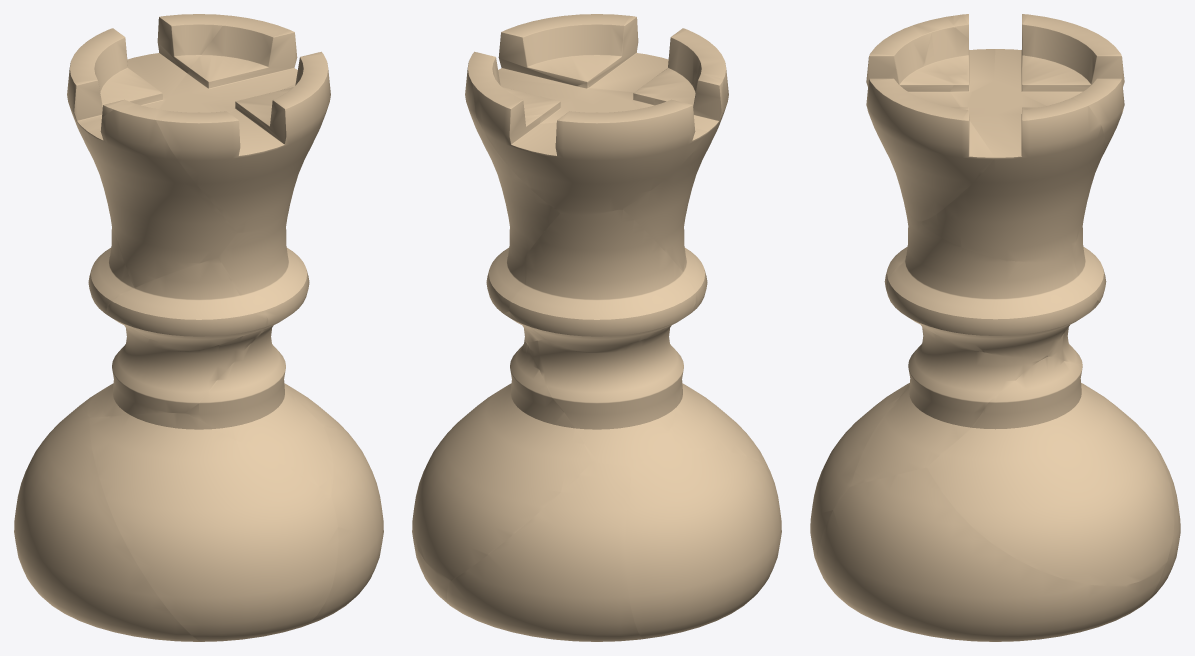
File: rook.glb
3 views of the same model, side by side, from view 1: azimuth 30°, elevation 25°; view 2: azimuth 150°, elevation 25°; view 3: azimuth 270°, elevation 25° (orthographic).
Parts seen in each view (by area): view 1: chunk-03.007, chunk-01.007, chunk-12.005, chunk-10.007, chunk-05.007, chunk-13.005, chunk-07.007, chunk-11.007, chunk-06.007, chunk-02.007, chunk-08.007, chunk-09.007 (+1 smaller); view 2: chunk-01.007, chunk-04.007, chunk-00.007, chunk-09.007, chunk-13.005, chunk-06.007, chunk-12.005, chunk-11.007, chunk-10.007, chunk-03.007, chunk-08.007, chunk-07.007 (+1 smaller); view 3: chunk-04.007, chunk-02.007, chunk-11.007, chunk-08.007, chunk-12.005, chunk-05.007, chunk-13.005, chunk-03.007, chunk-10.007, chunk-09.007, chunk-00.007, chunk-06.007.
Part boxes in pixels (bbox=[...]): chunk-03.007: bbox=[89, 412, 338, 641]; chunk-01.007: bbox=[14, 408, 200, 641]; chunk-12.005: bbox=[155, 51, 330, 232]; chunk-10.007: bbox=[85, 104, 237, 287]; chunk-05.007: bbox=[186, 325, 333, 494]; chunk-13.005: bbox=[67, 14, 229, 143]; chunk-07.007: bbox=[106, 257, 268, 350]; chunk-11.007: bbox=[159, 15, 297, 219]; chunk-06.007: bbox=[83, 325, 265, 417]; chunk-02.007: bbox=[307, 426, 383, 624]; chunk-08.007: bbox=[218, 213, 309, 329]; chunk-09.007: bbox=[88, 215, 134, 313]; chunk-01.007: bbox=[625, 448, 781, 638]; chunk-04.007: bbox=[413, 340, 592, 581]; chunk-00.007: bbox=[447, 462, 642, 641]; chunk-09.007: bbox=[509, 209, 695, 351]; chunk-13.005: bbox=[472, 73, 723, 214]; chunk-06.007: bbox=[527, 325, 683, 466]; chunk-12.005: bbox=[498, 14, 723, 92]; chunk-11.007: bbox=[465, 51, 663, 258]; chunk-10.007: bbox=[622, 58, 728, 271]; chunk-03.007: bbox=[663, 383, 771, 474]; chunk-08.007: bbox=[486, 232, 544, 342]; chunk-07.007: bbox=[683, 247, 707, 312]; chunk-04.007: bbox=[927, 356, 1174, 586]; chunk-02.007: bbox=[818, 467, 1164, 641]; chunk-11.007: bbox=[918, 74, 1105, 262]; chunk-08.007: bbox=[886, 206, 1097, 357]; chunk-12.005: bbox=[866, 25, 994, 221]; chunk-05.007: bbox=[851, 325, 1047, 485]; chunk-13.005: bbox=[953, 14, 1124, 153]; chunk-03.007: bbox=[810, 383, 909, 572]; chunk-10.007: bbox=[912, 15, 995, 81]; chunk-09.007: bbox=[1073, 211, 1106, 305]; chunk-00.007: bbox=[1094, 390, 1180, 605]; chunk-06.007: bbox=[922, 327, 1094, 391].
Size of the model in its own units: 0.7004 by 1.05 by 0.7004.
